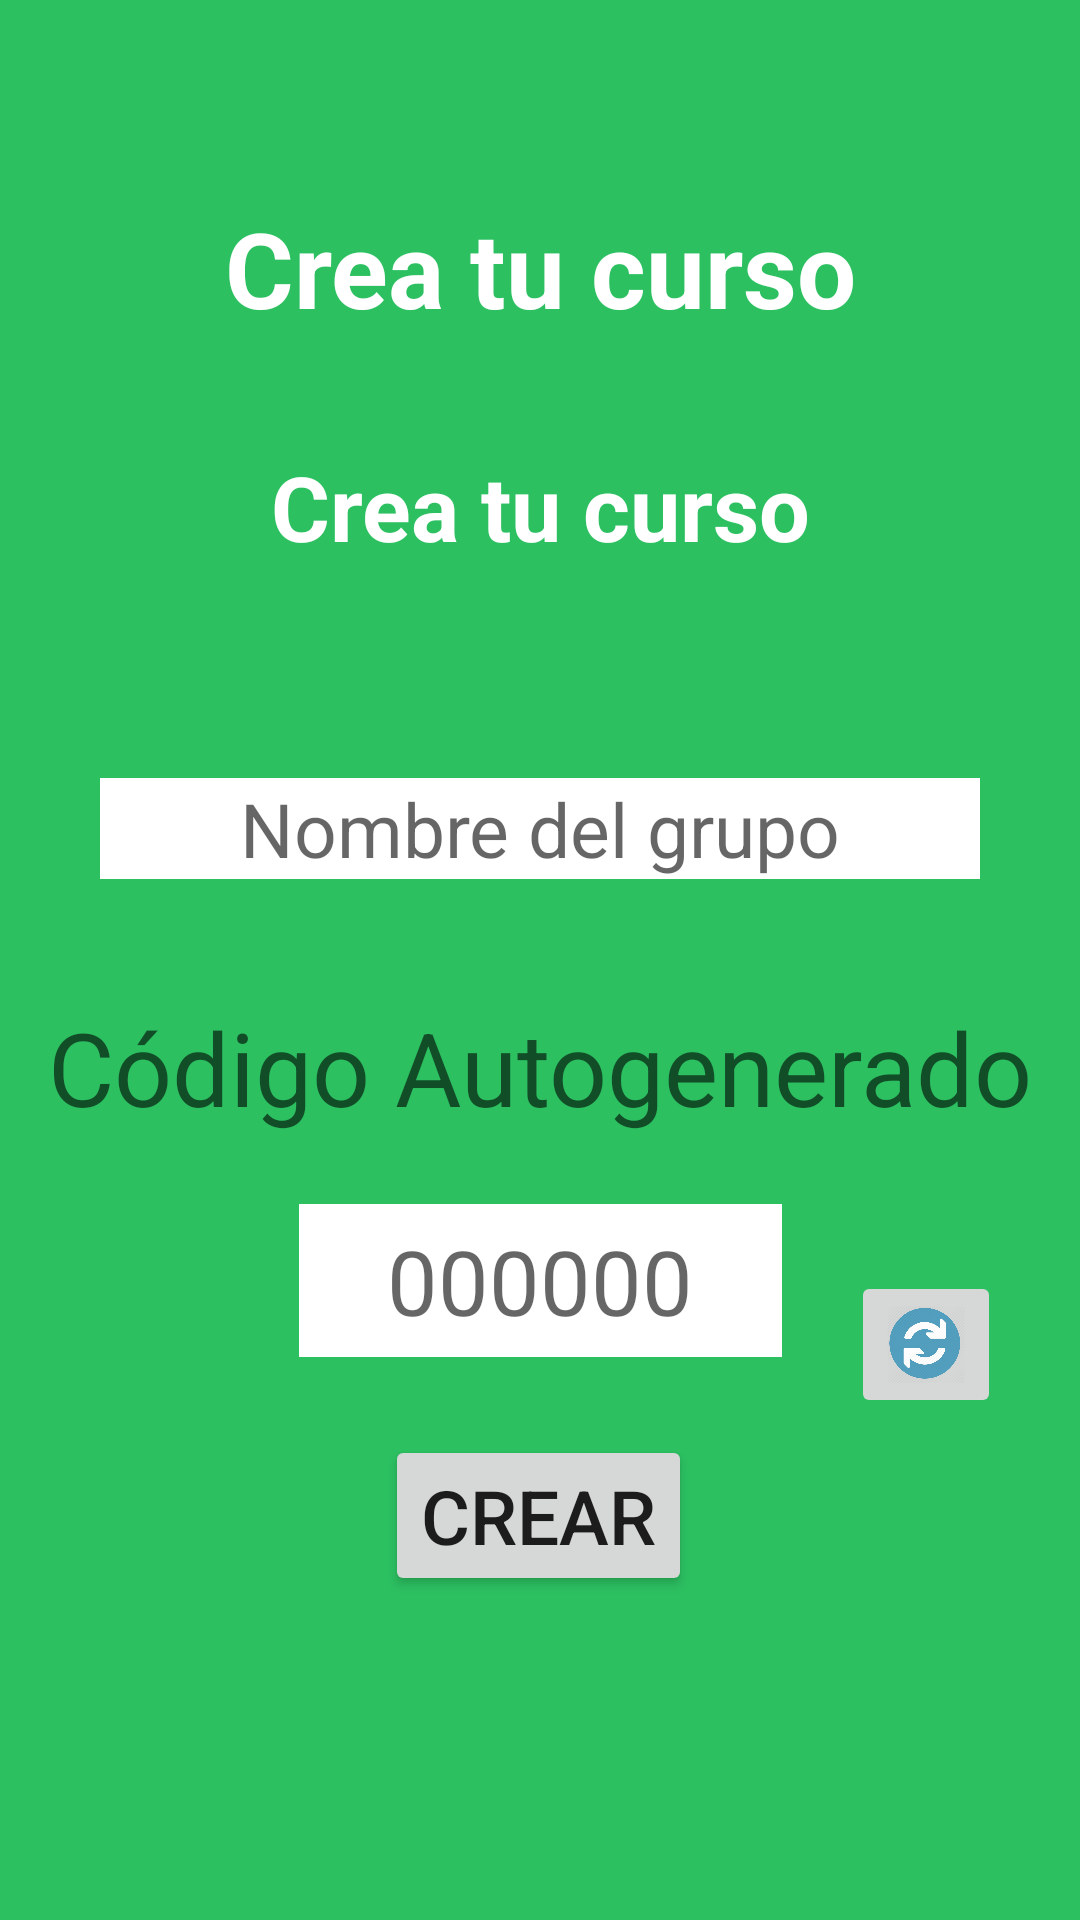

Icon bounding boxes for this 1080 × 1920 phone screenshot, format (x1, y1, x2, y2):
updatebuton: (863, 1289, 989, 1400)
